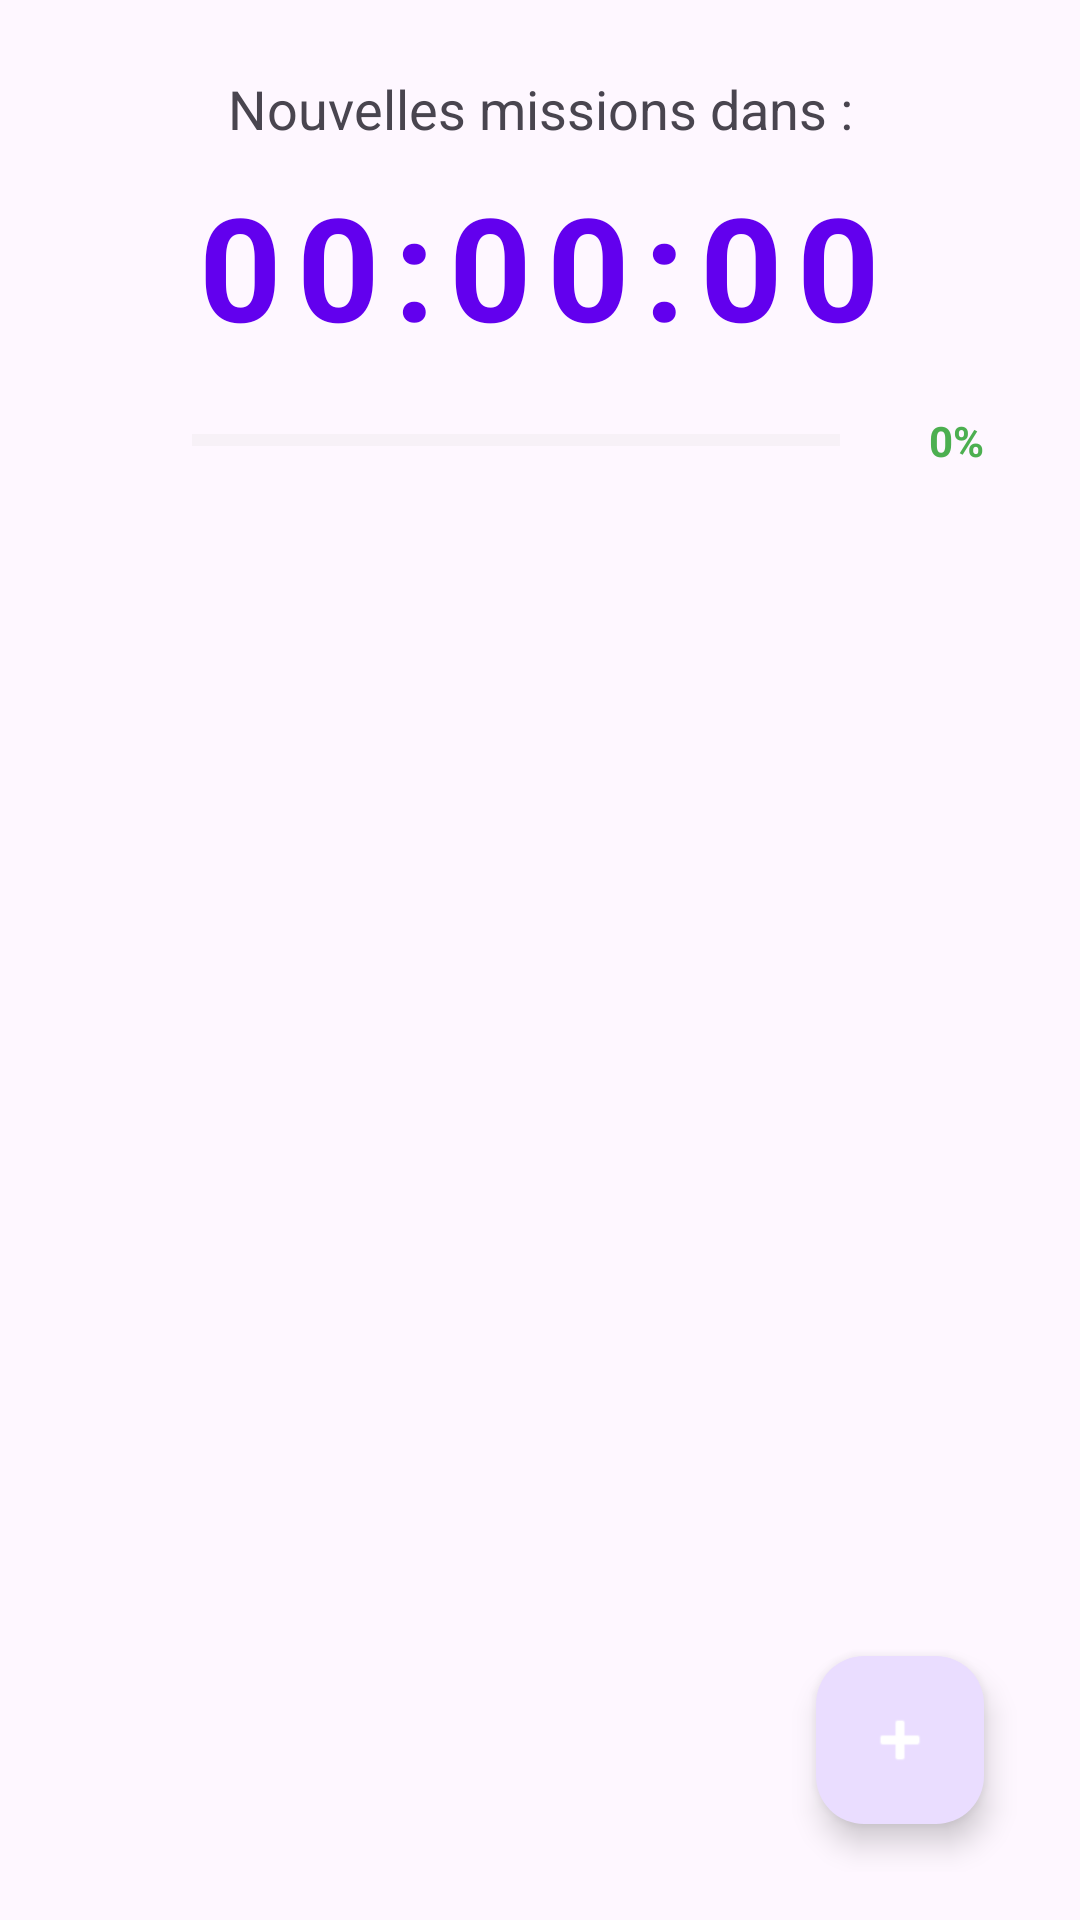

Named icons in this screenshot (1080px×1920px) and their bounding boxes, (x1, y1, x2, y2):
Ajouter une tâche: (816, 1656, 984, 1824)
